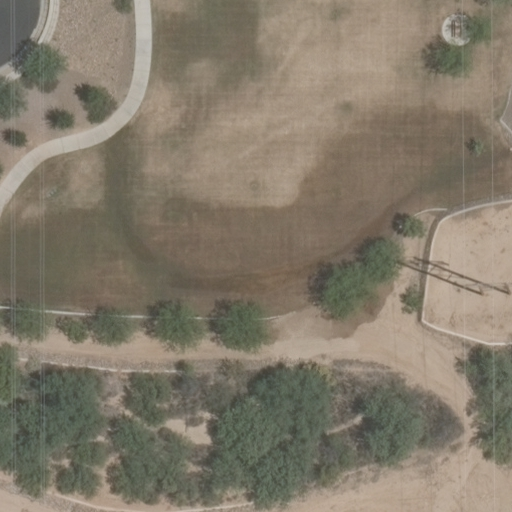TT: (459, 283, 512, 300)
